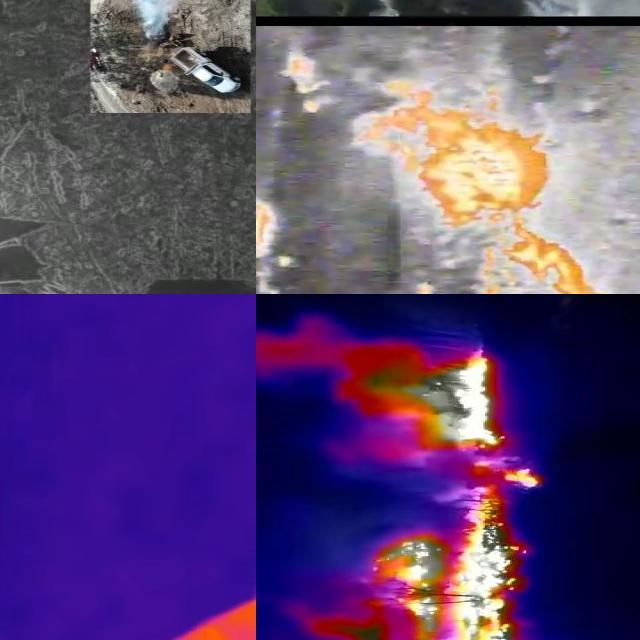fire: (323, 498, 553, 640), (356, 80, 556, 232), (332, 337, 510, 453), (402, 230, 622, 295), (416, 462, 552, 500), (282, 47, 332, 117), (257, 198, 287, 262)
